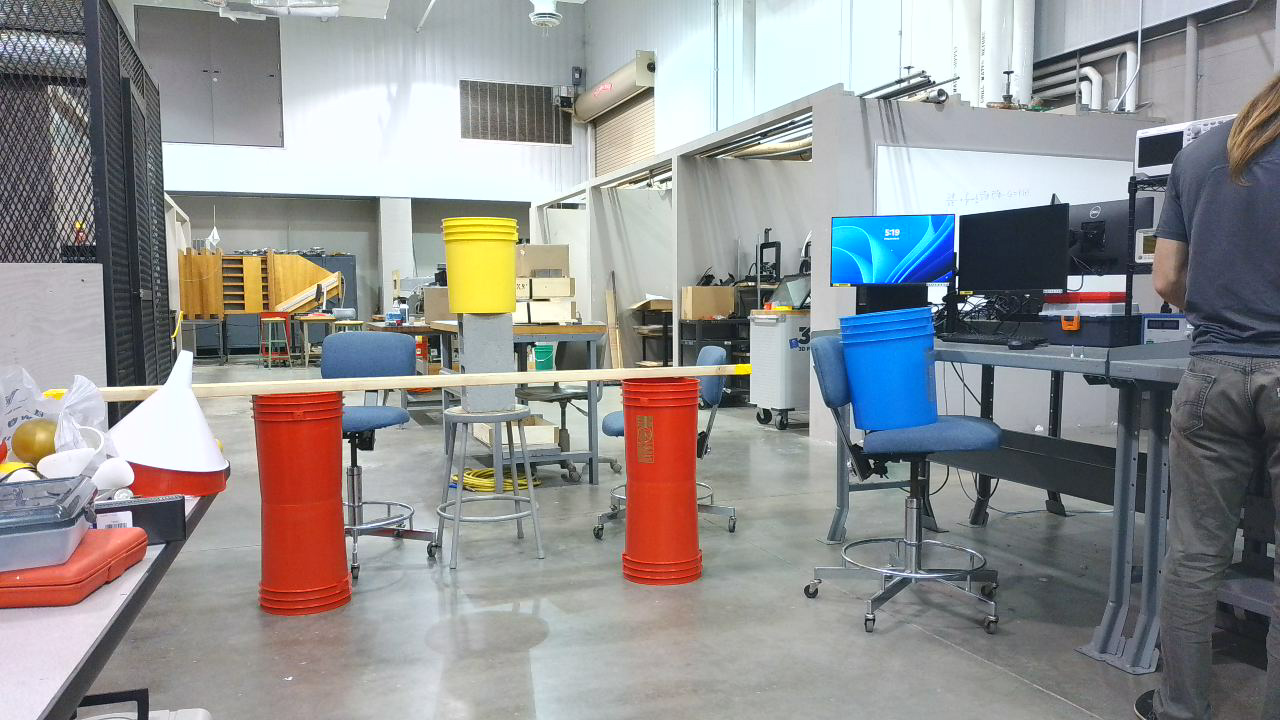blue_bucket: (837, 308, 949, 439)
red_bucket_arch: (248, 372, 719, 624)
yellow_bucket: (443, 218, 529, 324)
